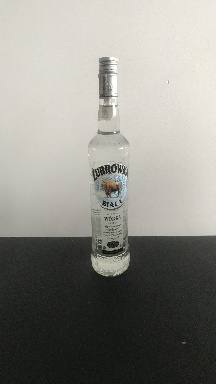butelka: (86, 53, 131, 279), (86, 54, 131, 278)
